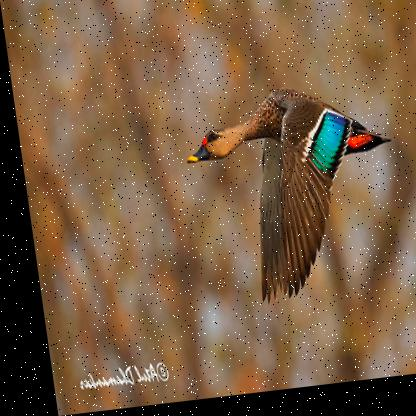Burung: (176, 84, 403, 312)
